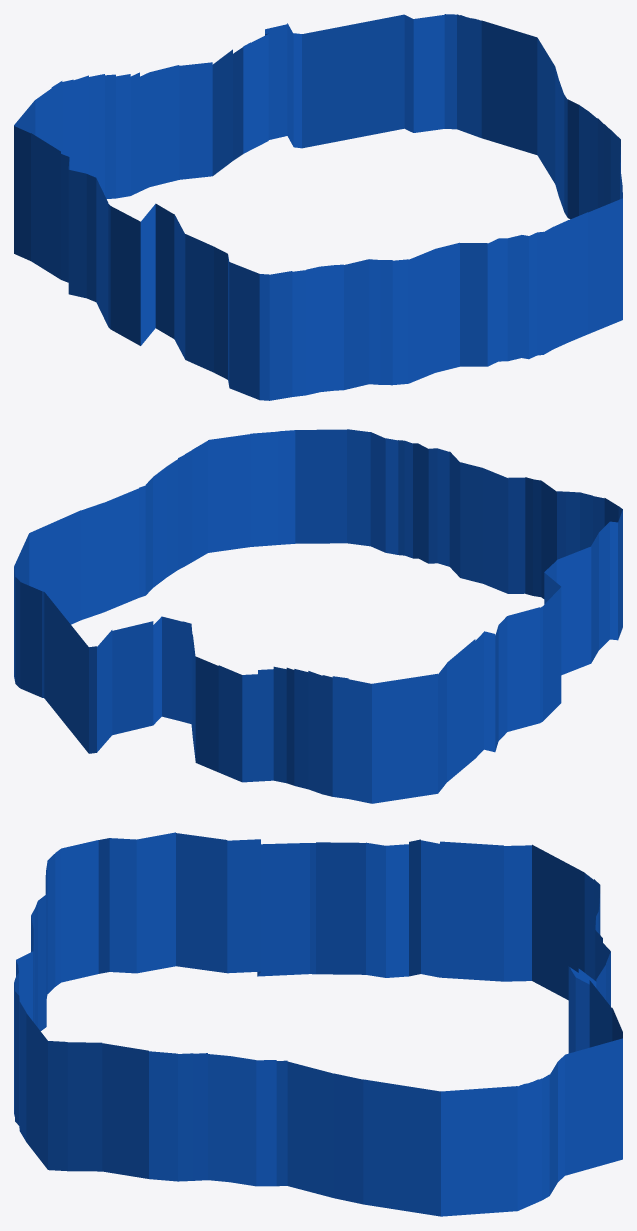
Rendered from barrier.fbx.
3 views of the same model, one above another, from view 1: azimuth 30°, elevation 25°; view 2: azimuth 150°, elevation 25°; view 3: azimuth 270°, elevation 25° (orthographic). The views are drawn at different scales.
Parts seen in each view (by area): view 1: barrier; view 2: barrier; view 3: barrier.
Boxes of the visible parts, box(x1,y1,x2,y2) form: barrier: box(14, 14, 622, 400); barrier: box(14, 429, 622, 803); barrier: box(14, 832, 622, 1216).
Size of the model in its own units: 30066 by 8779 by 30589.
